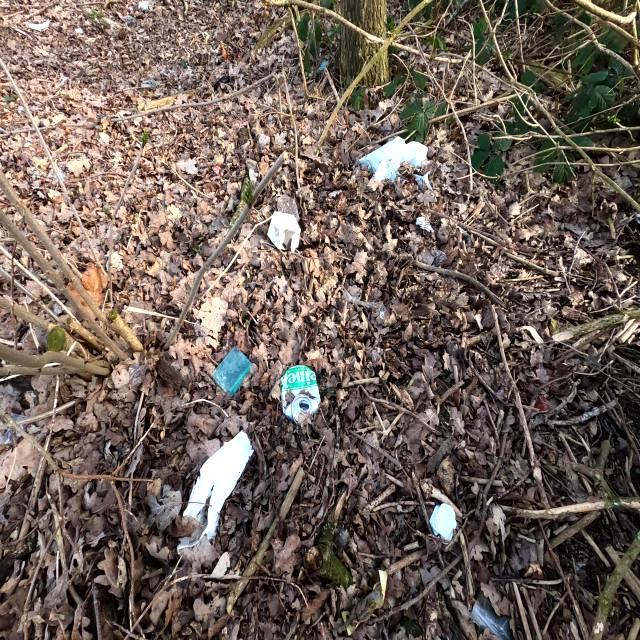Metal: (279, 364, 321, 426)
Paper: (176, 428, 254, 556), (354, 136, 430, 184), (266, 210, 302, 253)
